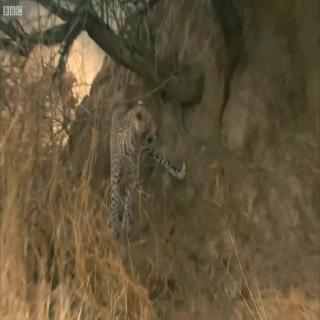Leopard: (89, 80, 199, 268)
